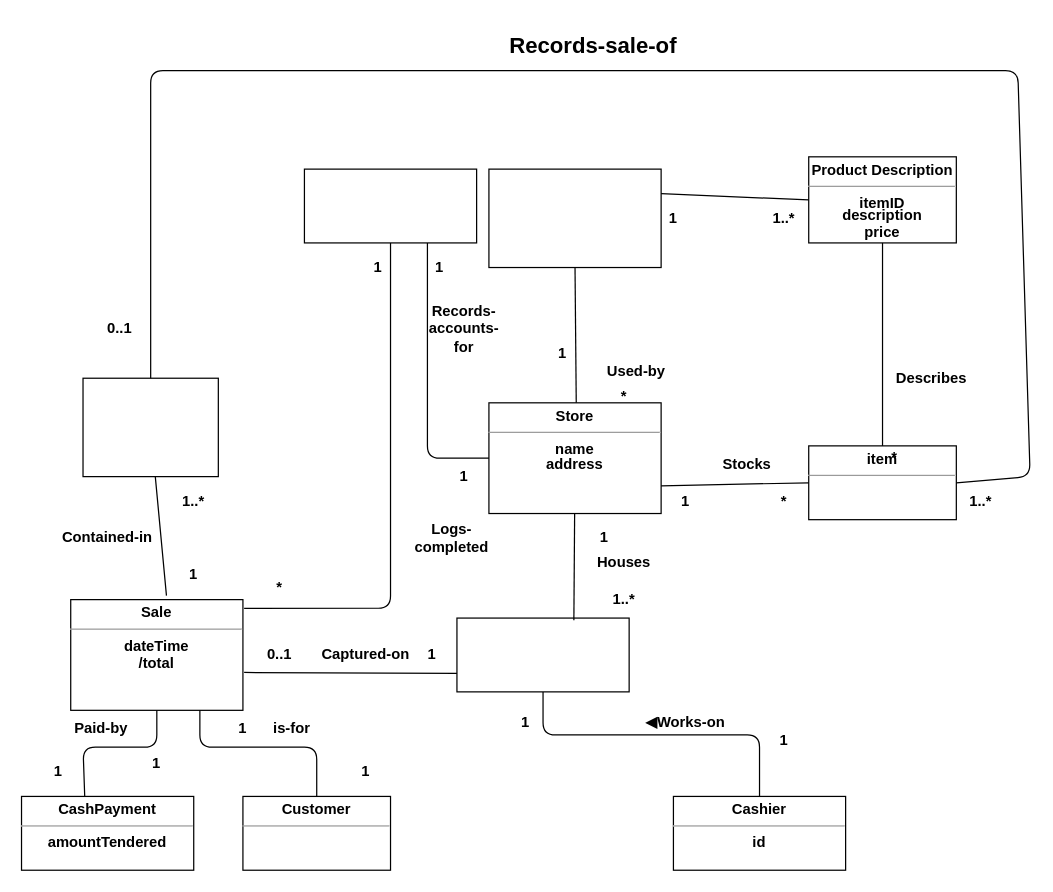
This 1053x892 diagram has some shape labels left out. The shapes that lost their labels are listed below. From the top down, each one's centre as x and y in pixels, then its label:
the point at 390,205: Ledger
the point at 574,218: Product Catalog
the point at 150,427: Sales Lineitem quantity
the point at 542,654: Register id
